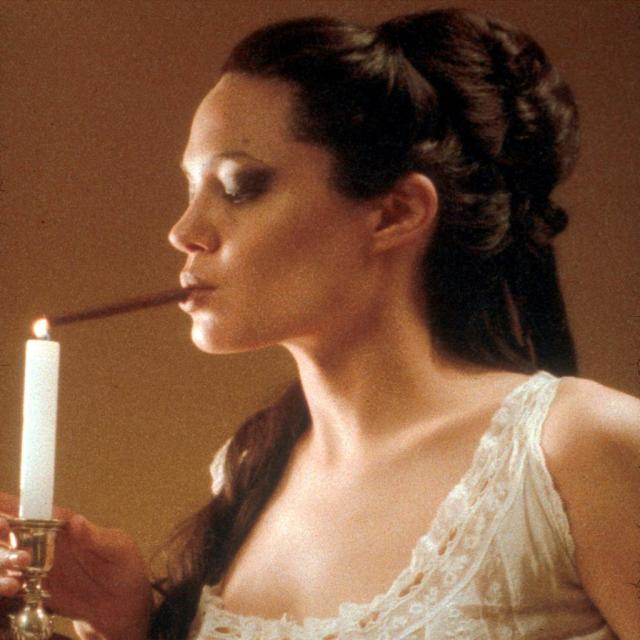smoking: (0, 276, 239, 377)
